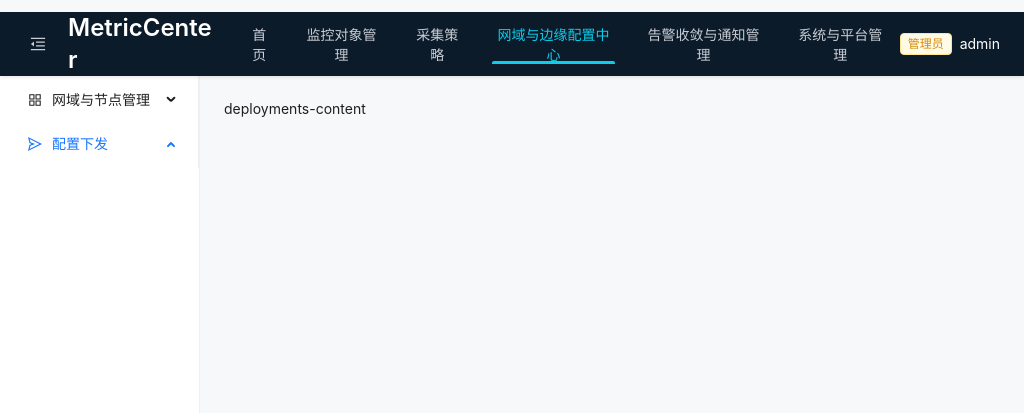
Scenario: MainLayout › toggles 网域与节点管理 submenu on click（低频接入面可折叠）
Expected: the text "网域纳管" is not shown
Expected: the text "采集节点状态" is not shown
 点击组标题展开
Click the menu item "网域与节点管理" at x=89, y=100, box [28,91,150,108]
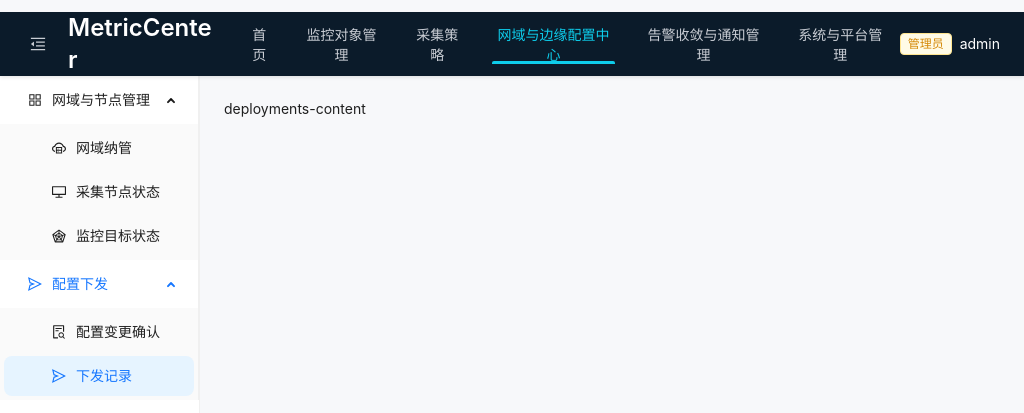
Now the text "网域纳管" is shown, box [76,139,132,156]
Now the text "采集节点状态" is shown, box [76,183,160,200]
